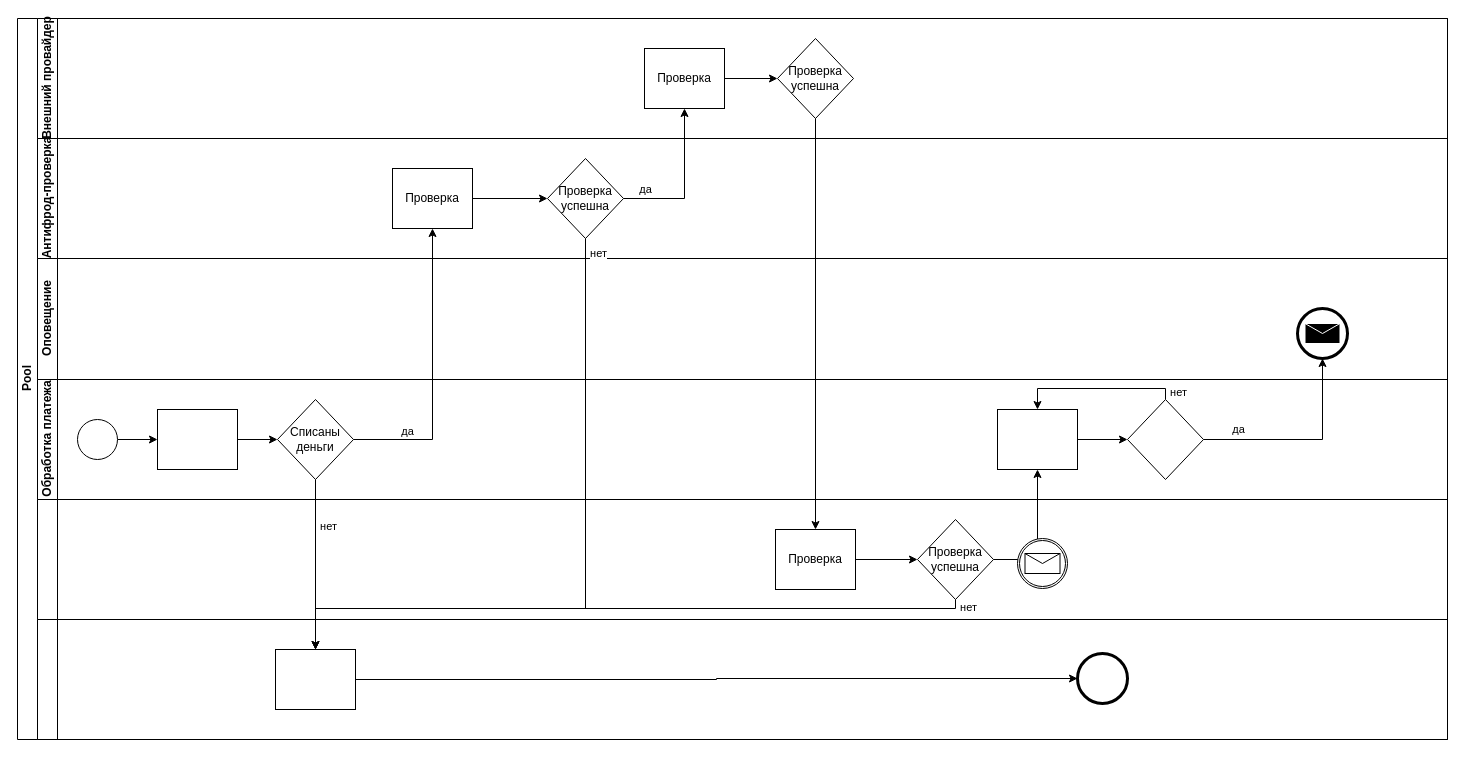
Some shapes in this 1465 by 757 pixel diagram are drawn without their labels. Each missing label, with the box of its shape:
Возврат средстр: (274, 648, 356, 710)
Деньги переведены: (1126, 398, 1204, 480)
Ошибка: (36, 618, 1448, 740)
Перевод средств: (996, 408, 1078, 470)
Ручная проверка: (36, 498, 1448, 620)
Списание денег: (156, 408, 238, 470)
